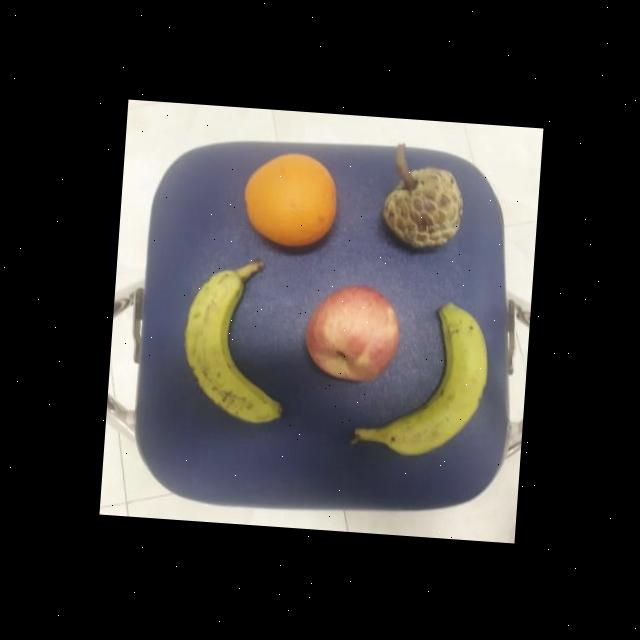Sakya fruit: (374, 155, 467, 261)
apple: (298, 277, 405, 383)
banana: (345, 290, 491, 464), (178, 253, 292, 428)
orange: (236, 146, 342, 252)
